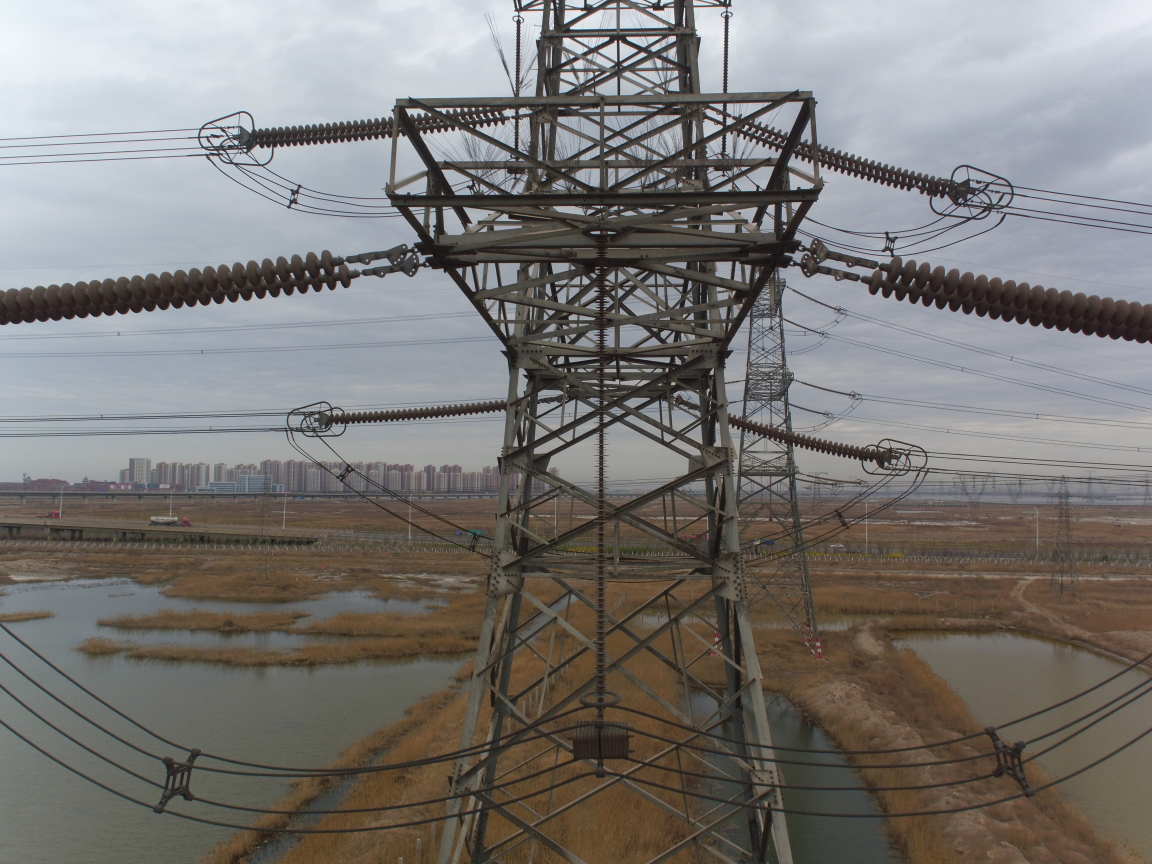insulator: (1, 245, 383, 328), (837, 246, 1152, 346), (730, 410, 886, 466), (320, 396, 507, 429)
